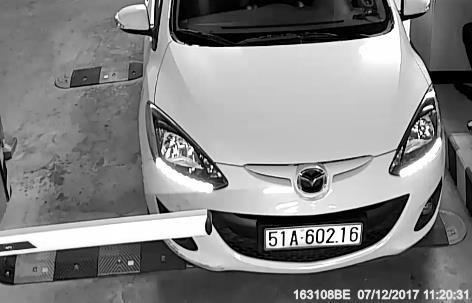License-plate: (249, 214, 372, 255)
